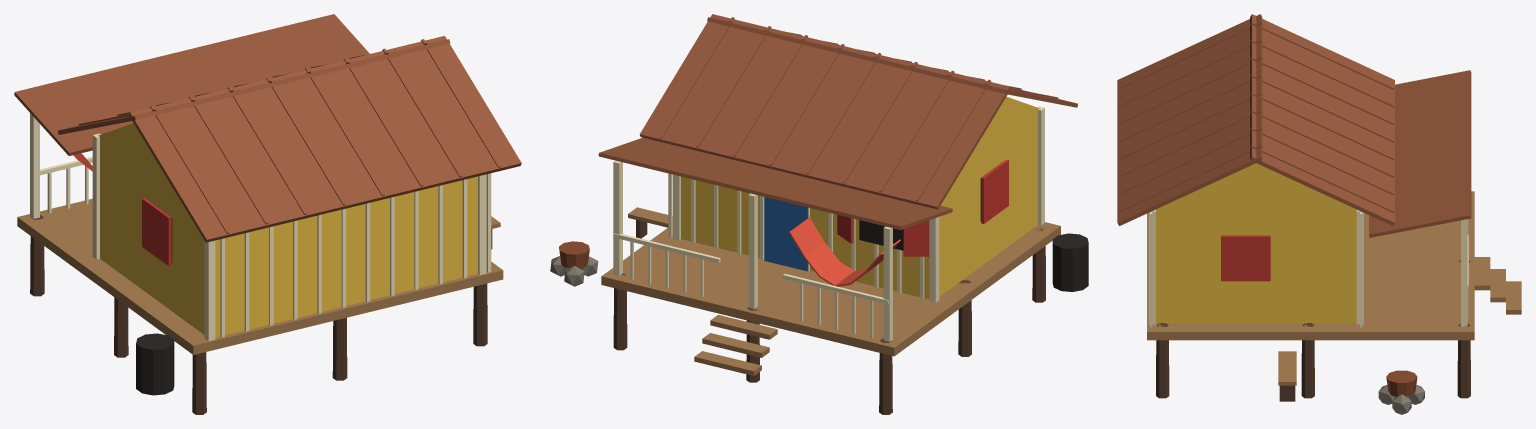
File: casita.glb
3 views of the same model, side by side, from view 1: azimuth 30°, elevation 25°; view 2: azimuth 150°, elevation 25°; view 3: azimuth 270°, elevation 25° (orthographic). The views are drawn at different scales.
Visible parts, largest first — view 1: casita; view 2: casita; view 3: casita.
Boxes of the visible parts, x1=… form: casita: x1=14, y1=14, x2=521, y2=414; casita: x1=550, y1=14, x2=1088, y2=414; casita: x1=1117, y1=14, x2=1521, y2=414.
Size of the model in its own units: 9.13 by 5.27 by 7.77.
